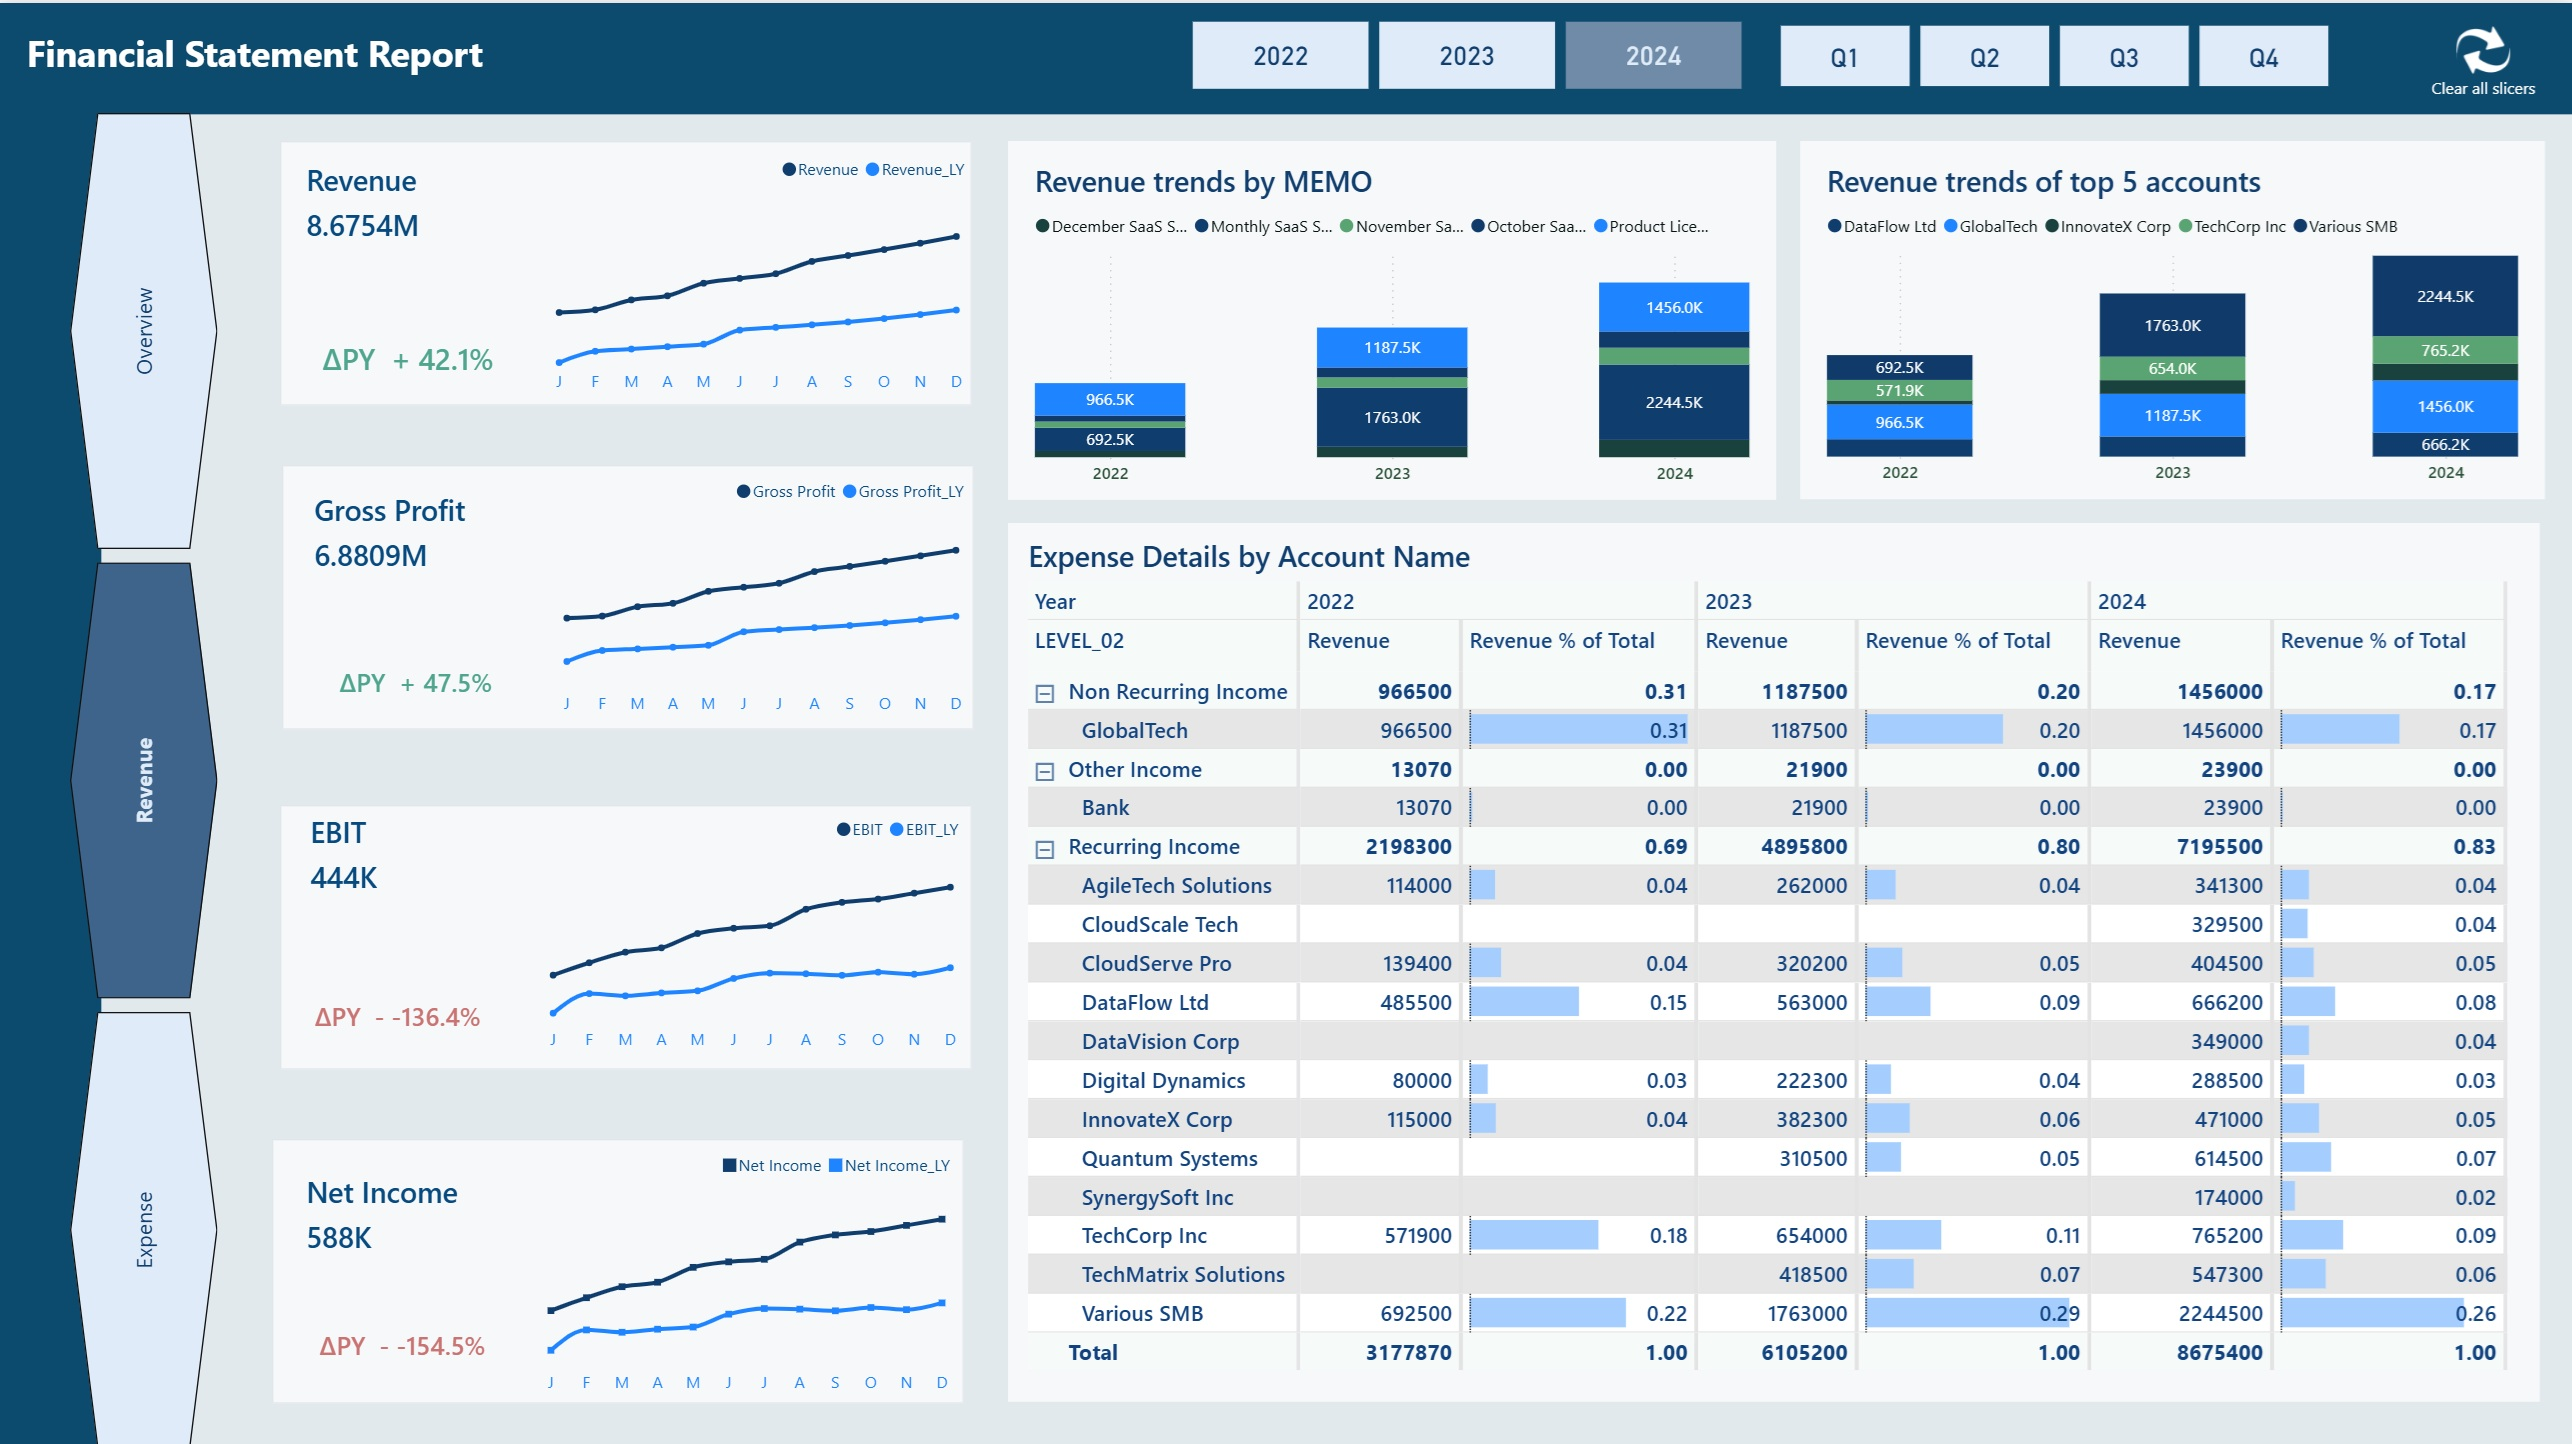

This screenshot's page, from the dashboard's own definition file:
{"tool":"powerbi","page":{"name":"Revenue","canvas":[1920,1080],"ordinal":1},"visuals":[{"type":"cardVisual","title":"Revenue","fields":{"Data":["Measure.Revenue"]},"box":[215.4,102.9,181.6,94.1],"z":0,"group":"g1"},{"type":"shape","box":[210.8,103.1,515.7,197.2],"z":0},{"type":"cardVisual","title":"Revenue","fields":{"Data":["Measure.Gross Profit"]},"box":[220.5,352.2,199.5,89.2],"z":0,"group":"g2"},{"type":"card","fields":{"Values":["Measure.EBIT YoY% Dynamic"]},"box":[207.5,735,181.6,43.8],"z":0,"group":"g3"},{"type":"card","fields":{"Values":["Measure.Net Income YoY% Dynamic"]},"box":[210.8,982.8,182.8,39.8],"z":0,"group":"g4"},{"type":"lineChart","fields":{"Category":["Calendar.Month Initial"],"Y":["Measure.Revenue","Measure.Revenue_LY"]},"box":[401.9,104.7,327.6,196.2],"z":1000,"group":"g1"},{"type":"shape","box":[211.7,343.8,515.7,197.2],"z":1000},{"type":"card","fields":{"Values":["Measure.GP YoY% Dynamic"]},"box":[219.1,488.4,184.6,38],"z":1000,"group":"g2"},{"type":"lineChart","fields":{"Category":["Calendar.Month Initial"],"Y":["Measure.EBIT","Measure.EBIT_LY"]},"box":[398.9,595.6,327.6,194.6],"z":1000,"group":"g3"},{"type":"lineChart","fields":{"Category":["Calendar.Month Initial"],"Y":["Measure.Net Income","Measure.Net Income_LY"]},"box":[397.5,847,322.7,199.5],"z":1000,"group":"g4"},{"type":"card","fields":{"Values":["Measure.Total revenue YoY% Dynamic"]},"box":[211.7,246.2,187.6,42],"z":2000,"group":"g1"},{"type":"lineChart","fields":{"Category":["Calendar.Month Initial"],"Y":["Measure.Gross Profit","Measure.Gross Profit_LY"]},"box":[408.6,344.1,321.1,196.2],"z":2000,"group":"g2"},{"type":"cardVisual","title":"Revenue","fields":{"Data":["Measure.EBIT"]},"box":[218.1,593,176.8,85.9],"z":2000,"group":"g3"},{"type":"shape","box":[209.9,598.1,515.7,197.2],"z":2000},{"type":"shape","box":[204.5,846.9,515.7,197.2],"z":3000},{"type":"shape","box":[76,81.4,1851.2,1000.7],"z":4000},{"type":"columnChart","title":"Revenue trends of top 5 accounts ","fields":{"Category":["Calendar.Year"],"Series":["Transaction.NAME"],"Y":["Measure.Revenue"]},"box":[1343.1,103.4,555.2,267.2],"z":5000},{"type":"columnChart","title":"Revenue trends by MEMO","fields":{"Category":["Calendar.Year"],"Y":["Measure.Revenue"],"Series":["Transaction.MEMO/DESCRIPTION"]},"box":[753.5,102.8,572.6,267.7],"z":6000},{"type":"pivotTable","title":"Expense Details by Account Name","fields":{"Rows":["Matrix.LEVEL_02","Transaction.NAME"],"Columns":["Calendar.Year"],"Values":["Measure.Revenue","Measure.Revenue % of Total"]},"box":[753.4,387.9,1141.4,655.2],"z":7000},{"type":"group","id":"g1","title":"Revenue","box":[211.7,102.9,517.7,198],"z":8000},{"type":"group","id":"g2","title":"GP 1","box":[219.1,344.1,510.6,196.2],"z":9000},{"type":"group","id":"g3","title":"EBT","box":[207.5,593,518.9,197.1],"z":10000},{"type":"group","id":"g4","title":"Group 1","box":[210.8,847,509.4,199.5],"z":11000},{"type":"pageNavigator","box":[54.3,81.4,110.4,997.1],"z":12000},{"type":"cardVisual","title":"Revenue","fields":{"Data":["Measure.Net Income"]},"box":[215.9,847,193,116.8],"z":12000,"group":"g4"},{"type":"advancedSlicerVisual","fields":{"Values":["Calendar.Quarter"]},"box":[1324.4,12.2,420,55.7],"z":13000},{"type":"advancedSlicerVisual","fields":{"Values":["Calendar.Year"]},"box":[885.2,9.6,420.1,60.5],"z":14000},{"type":"textbox","box":[16.7,13.3,448.3,63.3],"z":15000},{"type":"actionButton","box":[1806.7,0,88.3,88.3],"z":16000}]}

Visuals, with their boxes in screenshot pixels (x1, y1, x2, y2), scaled from the page's 1920x1080 canvas onto the 2572x1444 screenshot:
"Revenue" cardVisual: <region>289, 138, 532, 263</region>
shape: <region>282, 138, 973, 402</region>
"Revenue" cardVisual: <region>295, 471, 563, 590</region>
card - Measure.EBIT YoY% Dynamic: <region>278, 983, 521, 1041</region>
card - Measure.Net Income YoY% Dynamic: <region>282, 1314, 527, 1367</region>
lineChart - Calendar.Month Initial x Measure.Revenue: <region>538, 140, 977, 402</region>
shape: <region>284, 460, 974, 723</region>
card - Measure.GP YoY% Dynamic: <region>294, 653, 541, 704</region>
lineChart - Calendar.Month Initial x Measure.EBIT: <region>534, 796, 973, 1057</region>
lineChart - Calendar.Month Initial x Measure.Net Income: <region>532, 1132, 965, 1399</region>
card - Measure.Total revenue YoY% Dynamic: <region>284, 329, 535, 385</region>
lineChart - Calendar.Month Initial x Measure.Gross Profit: <region>547, 460, 977, 722</region>
"Revenue" cardVisual: <region>292, 793, 529, 908</region>
shape: <region>281, 800, 972, 1063</region>
shape: <region>274, 1132, 965, 1396</region>
shape: <region>102, 109, 2571, 1443</region>
"Revenue trends of top 5 accounts " columnChart: <region>1799, 138, 2543, 496</region>
"Revenue trends by MEMO" columnChart: <region>1009, 137, 1776, 495</region>
"Expense Details by Account Name" pivotTable: <region>1009, 519, 2538, 1395</region>
"Revenue" group: <region>284, 138, 977, 402</region>
"GP 1" group: <region>294, 460, 977, 722</region>
"EBT" group: <region>278, 793, 973, 1056</region>
"Group 1" group: <region>282, 1132, 965, 1399</region>
pageNavigator: <region>73, 109, 221, 1442</region>
"Revenue" cardVisual: <region>289, 1132, 548, 1289</region>
advancedSlicerVisual - Calendar.Quarter: <region>1774, 16, 2337, 91</region>
advancedSlicerVisual - Calendar.Year: <region>1186, 13, 1749, 94</region>
textbox: <region>22, 18, 623, 102</region>
actionButton: <region>2420, 0, 2539, 118</region>
